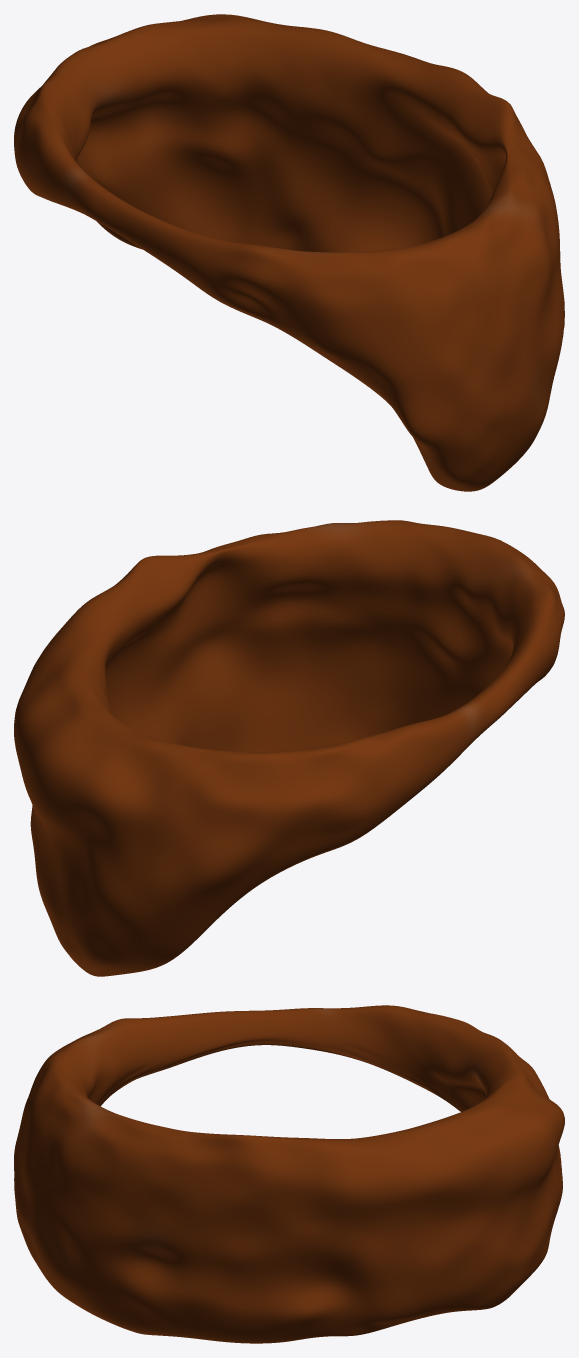
The model's file is arenaWalls.fbx.
3 renders of one model, top to bottom at view 1: azimuth 30°, elevation 25°; view 2: azimuth 150°, elevation 25°; view 3: azimuth 270°, elevation 25°, orthographic. The views are drawn at different scales.
Visible parts, largest first — view 1: PM3D_Ring3D_1; view 2: PM3D_Ring3D_1; view 3: PM3D_Ring3D_1.
Part boxes in pixels (<box>): PM3D_Ring3D_1: <box>14,14,564,491</box>; PM3D_Ring3D_1: <box>14,520,564,976</box>; PM3D_Ring3D_1: <box>14,1005,564,1343</box>.
Size of the model in its own units: 1.54 by 0.9788 by 2.24.
